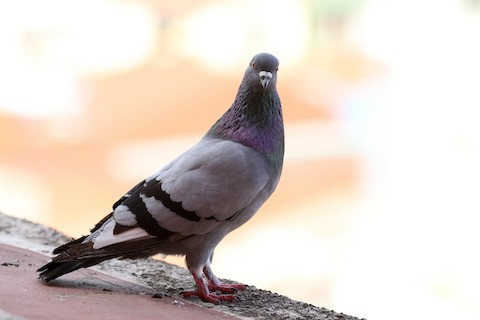pigeon: (33, 50, 302, 303)
